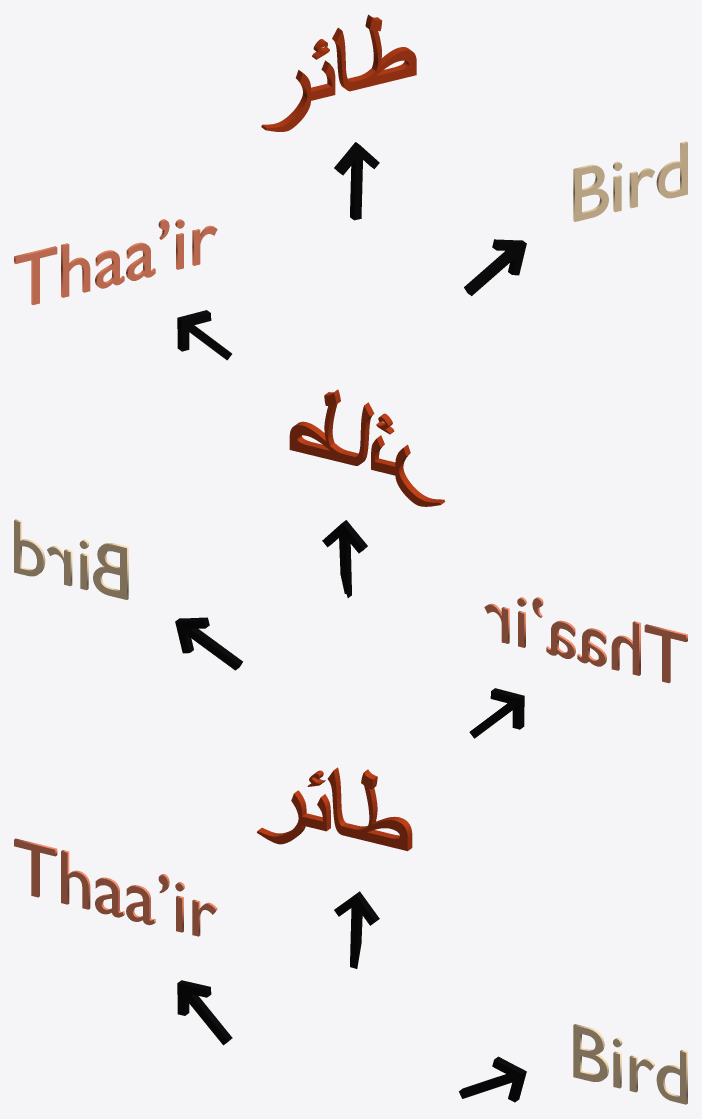
Rendered from Bird6.fbx.
The picture shows the model from 3 angles, top to bottom: view 1: azimuth 30°, elevation 25°; view 2: azimuth 150°, elevation 25°; view 3: azimuth 330°, elevation 25°; orthographic projection.
Parts seen in each view (by area): view 1: text4, Text.001, Text, Cube.001, Cube.003, Cube.002; view 2: text4, Text.001, Text, Cube.001, Cube.003, Cube.002; view 3: text4, Text.001, Text, Cube.002, Cube.003, Cube.001.
Part boxes in pixels (<box>): text4: <box>261,14,416,131</box>; Text.001: <box>14,219,217,304</box>; Text: <box>573,141,687,221</box>; Cube.001: <box>464,239,526,295</box>; Cube.003: <box>334,142,379,220</box>; Cube.002: <box>177,310,231,360</box>; text4: <box>289,389,445,506</box>; Text.001: <box>484,597,687,683</box>; Text: <box>14,519,128,599</box>; Cube.001: <box>175,617,242,670</box>; Cube.003: <box>322,520,367,597</box>; Cube.002: <box>469,688,524,738</box>; text4: <box>257,767,412,851</box>; Text.001: <box>14,838,217,936</box>; Text: <box>573,1024,687,1104</box>; Cube.002: <box>177,980,232,1045</box>; Cube.003: <box>334,891,379,968</box>; Cube.001: <box>459,1056,526,1102</box>.
Size of the model in its own units: 178 by 78.19 by 3.16.
